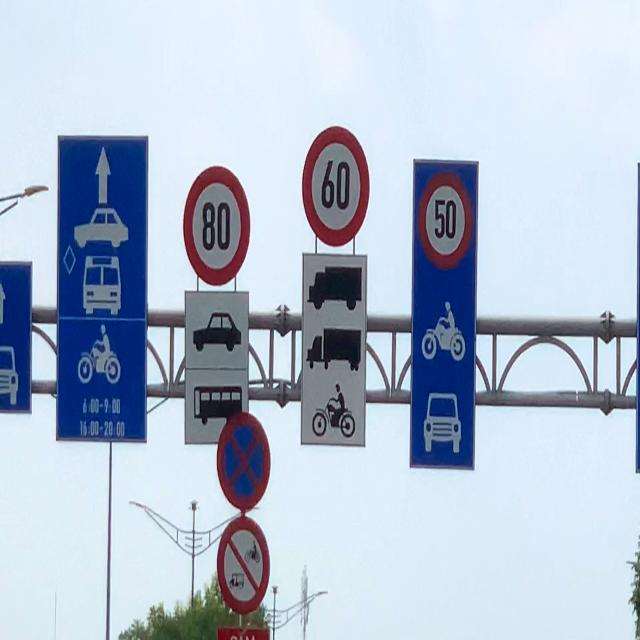P.127: (298, 114, 376, 248), (180, 157, 253, 288), (415, 166, 475, 273)
P.130: (214, 408, 273, 513)
